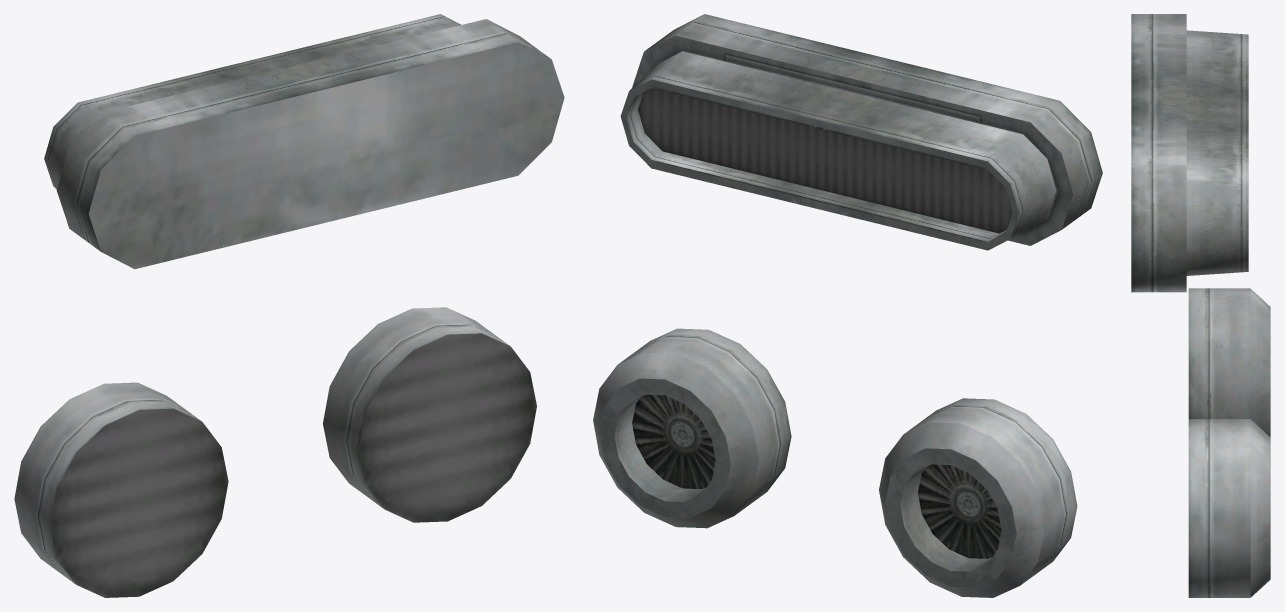
Rendered from kse_firespray_engine_s01_l0.fbx.
3 renders of one model, left to right at view 1: azimuth 30°, elevation 25°; view 2: azimuth 150°, elevation 25°; view 3: azimuth 270°, elevation 25°, orthographic. The views are drawn at different scales.
Parts seen in each view (by area): view 1: mesh_node; view 2: mesh_node; view 3: mesh_node.
Boxes of the visible parts, left/top/right/bottom form: mesh_node: left=14, top=14, right=564, bottom=597; mesh_node: left=593, top=14, right=1102, bottom=597; mesh_node: left=1131, top=14, right=1270, bottom=597.
Size of the model in its own units: 6.63 by 6.43 by 1.89.
1 material, 1 textured.
